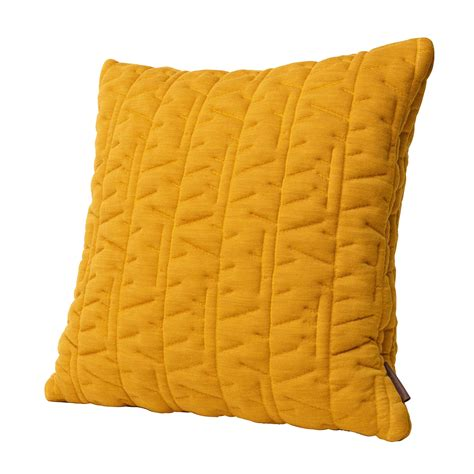???: (44, 37, 435, 441)
